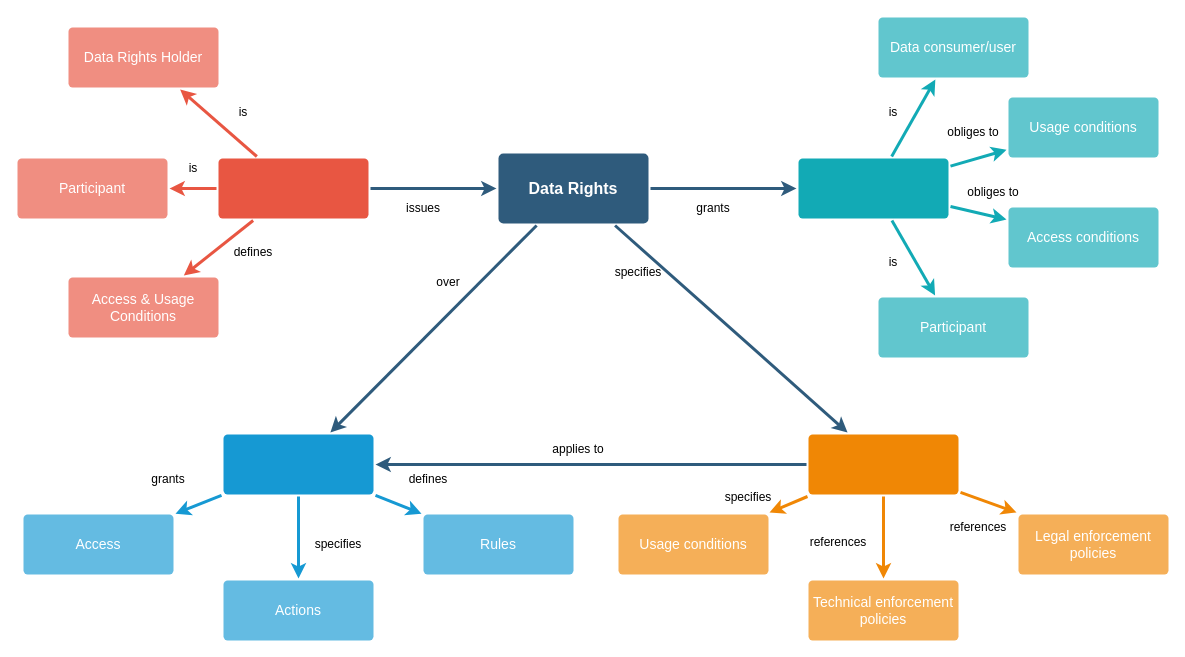
Image size: 1185x657. Some labels were removed from this diagram. The shapes that lost their labels are listed below. From the top down, each one's centre as x and y in pixels, then its label:
At pixel 293 188: "Issuer".
At pixel 873 188: "Subject".
At pixel 298 464: "Resource".
At pixel 883 464: "License".
